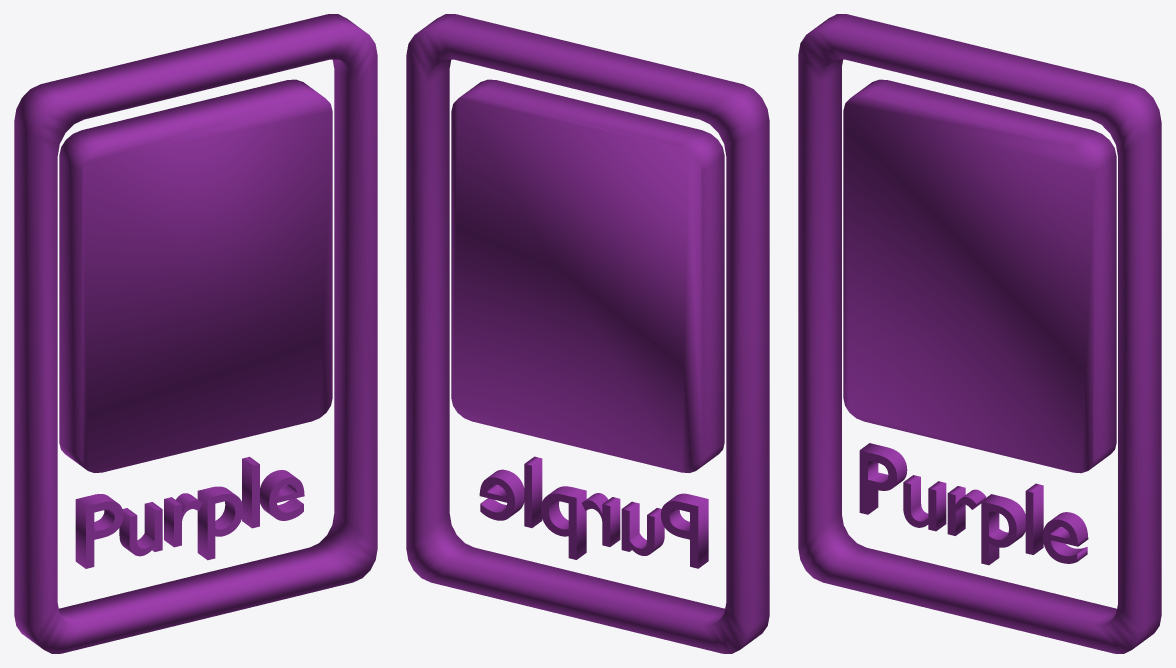
File: Color_Purple.gltf
The picture shows the model from 3 angles, left to right: view 1: azimuth 30°, elevation 25°; view 2: azimuth 150°, elevation 25°; view 3: azimuth 330°, elevation 25°; orthographic projection.
Visible parts, largest first — view 1: Text.001; view 2: Text.001; view 3: Text.001.
Part boxes in pixels (<box>): Text.001: <box>14,14,377,653</box>; Text.001: <box>406,14,769,653</box>; Text.001: <box>798,14,1161,653</box>.
Bounding box in the file's own units: 1 × 1.56 × 0.1143.
